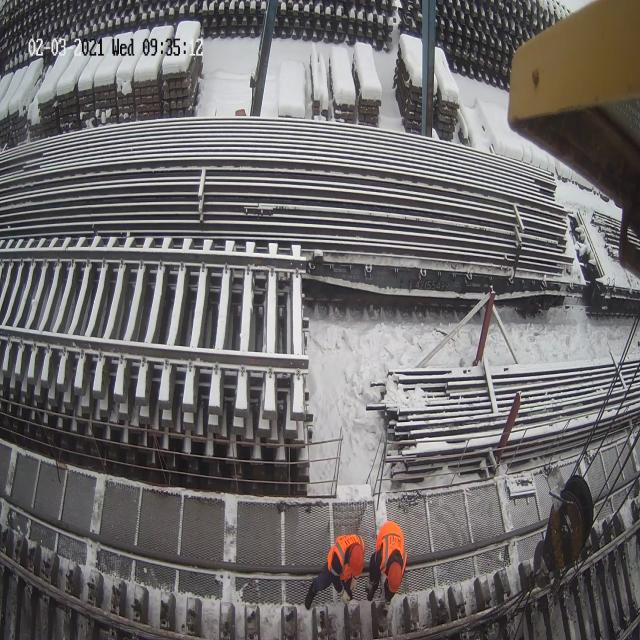Helmet: (383, 550, 404, 597), (342, 548, 363, 580)
Person: (304, 533, 365, 610), (366, 520, 408, 604)
